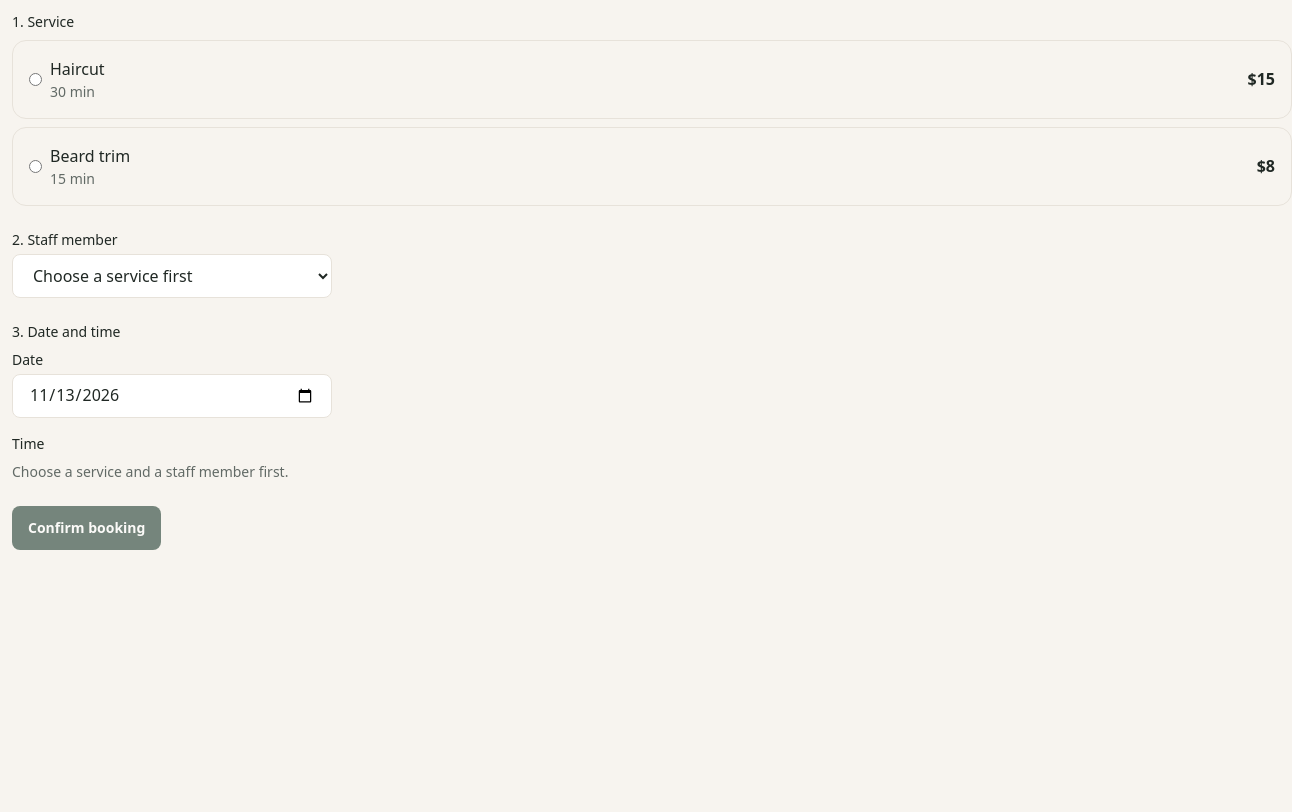
Test case: BookingForm › shows the error and clears the chosen time when the slot was just taken (409)
Click the radio button labelled "Beard trim 15 min $8". click: (36, 166)
box: [29, 160, 42, 173]
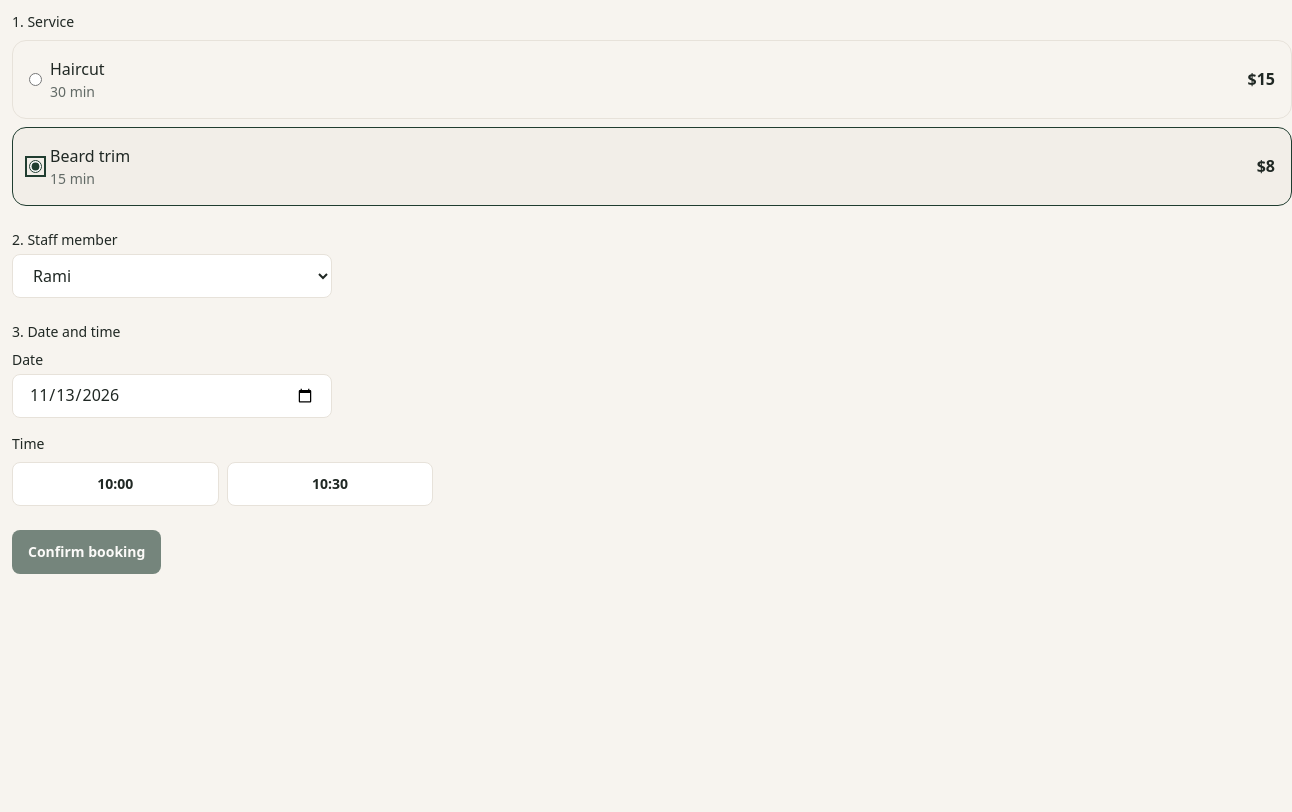
Click the button "10:00". click: (115, 484)
box: [12, 462, 219, 506]
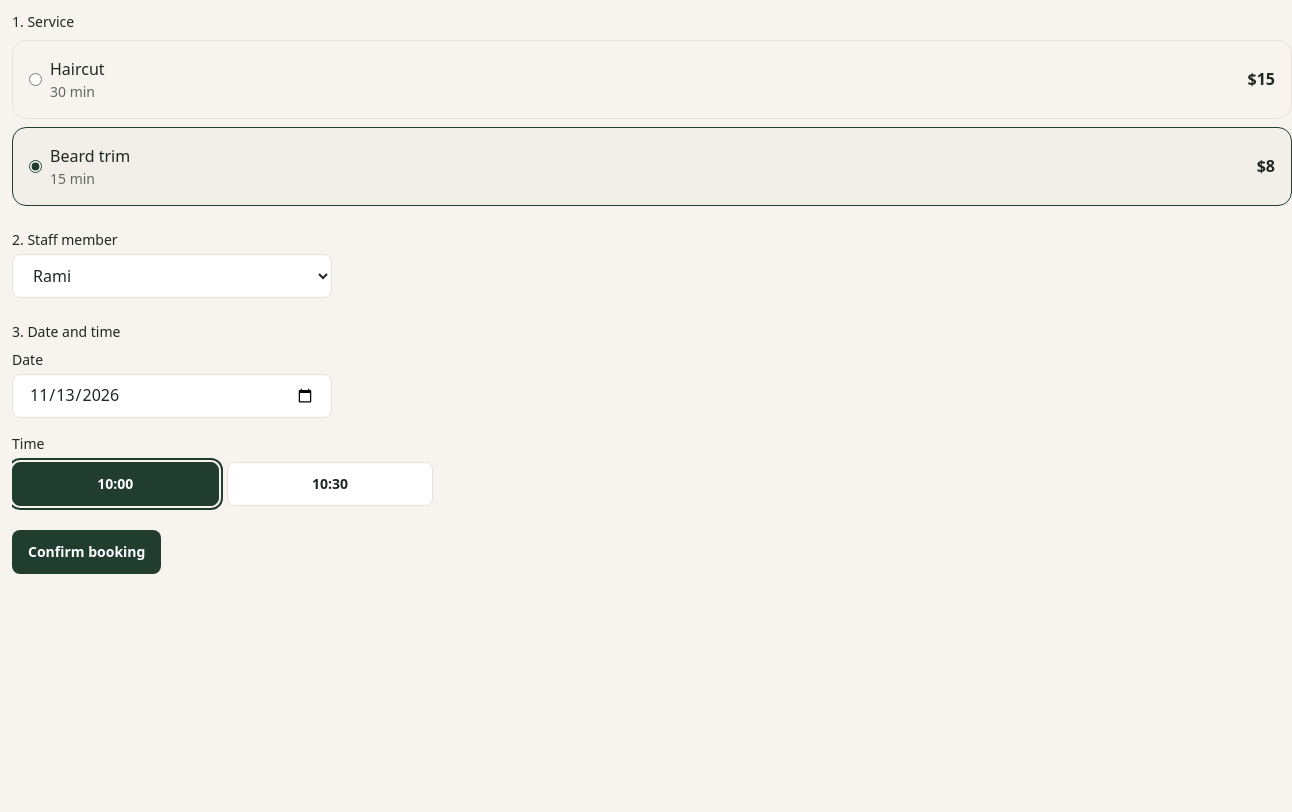
Click the button "Confirm booking". click: (87, 552)
box: [12, 530, 161, 574]
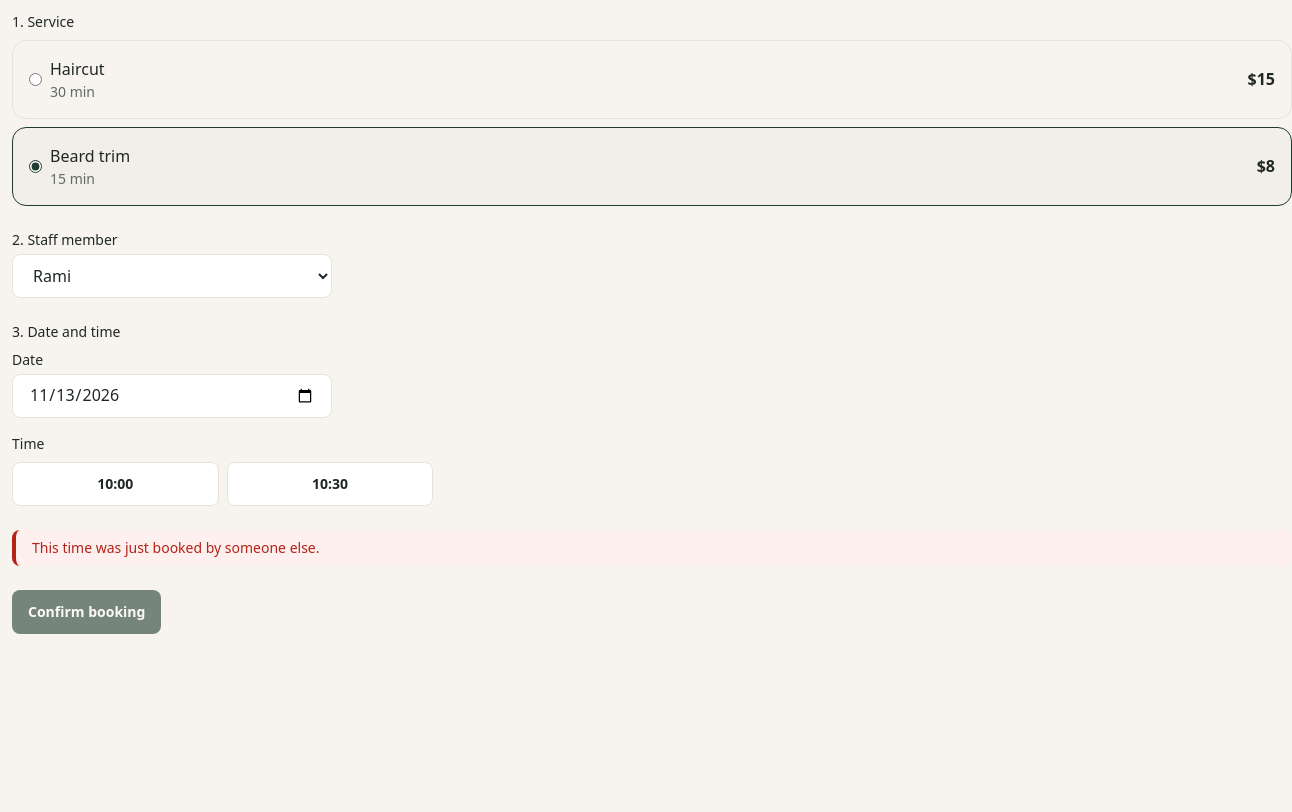
Expected: the message shows "just booked by someone else", [32, 538, 320, 557]
Expected: the button "Confirm booking" is disabled, [12, 590, 161, 634]
